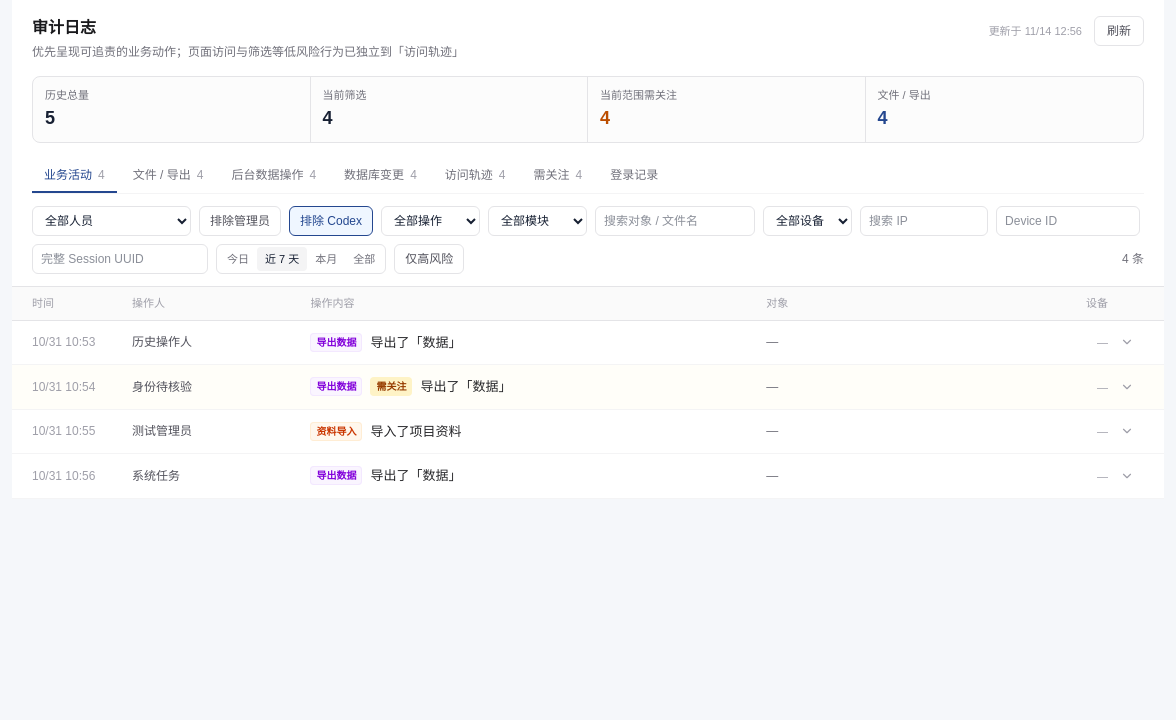
Test: Codex is excluded by default while admin exclusion is opt-in, and clearing restores both defaults
This screenshot has width=1176, height=720.
Expected: the text "4 条" is shown, [1122,251,1144,267]
Expected: the button "清除筛选" is not shown
Click the button "排除 Codex" at (331, 220), box [289,206,373,236]
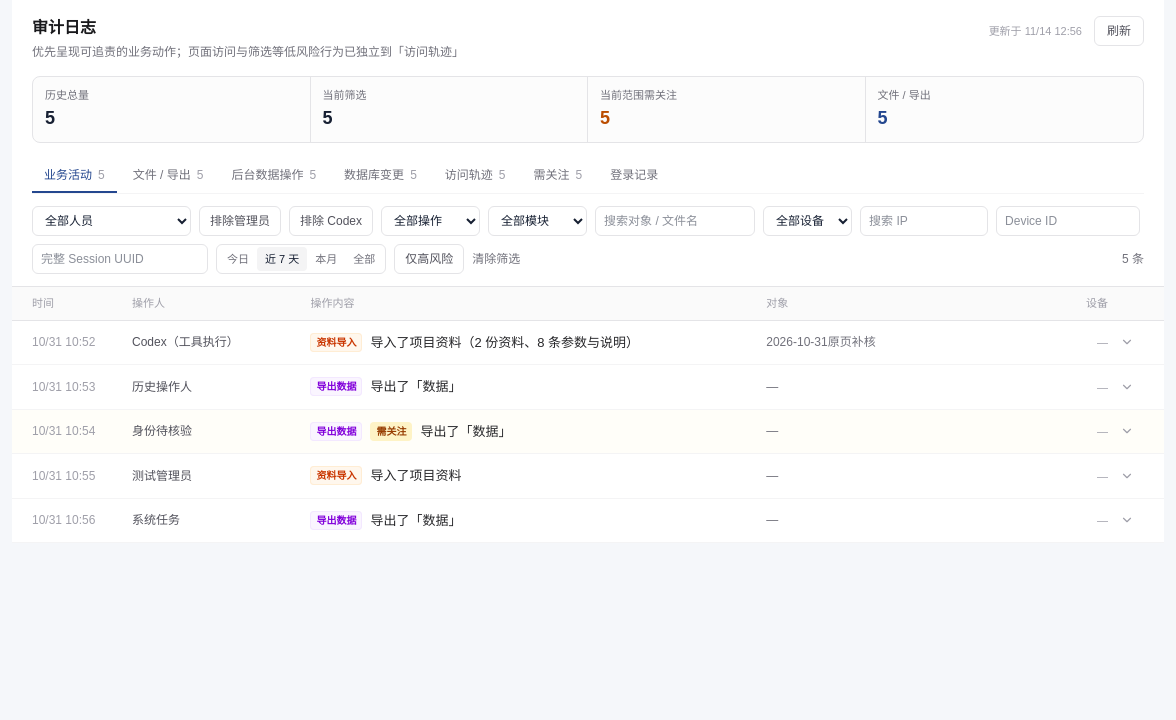
Expected: the text "5 条" is shown, [1122,251,1144,267]
Expected: the text "Codex（工具执行）" is shown, [132,335,239,349]
Click the button "排除 Codex" at (331, 220), box [289,206,373,236]
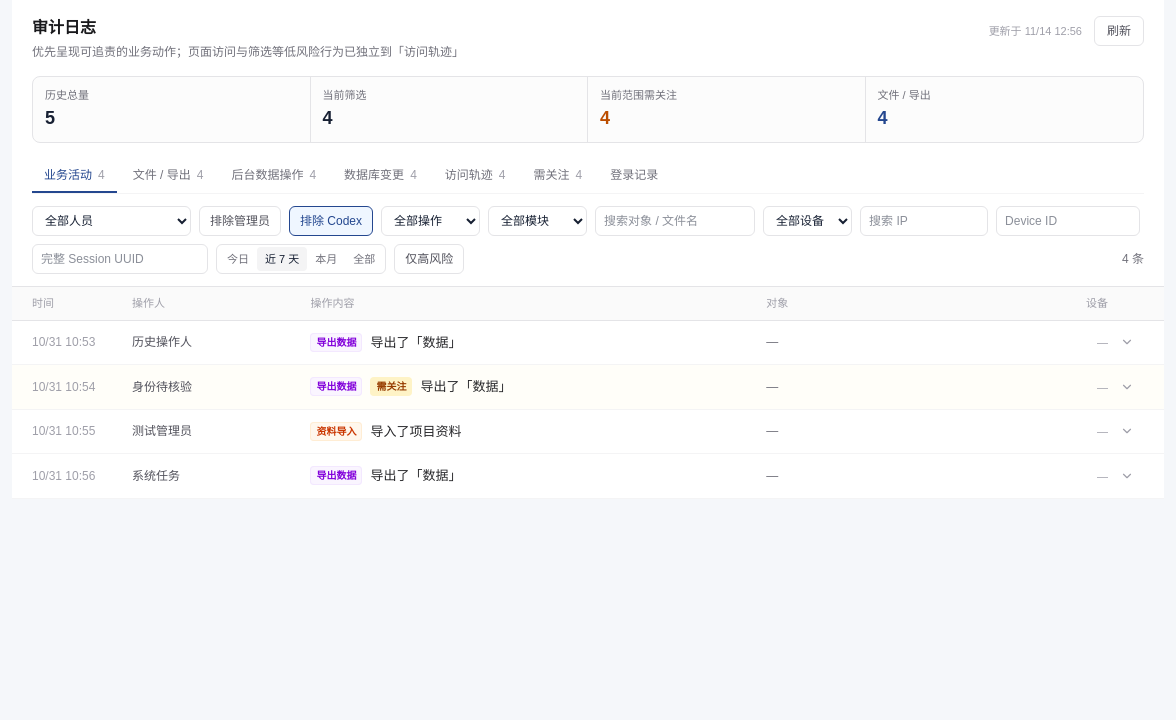
Expected: the text "4 条" is shown, [1122,251,1144,267]
Click the button "排除管理员" at (240, 220), box [199,206,281,236]
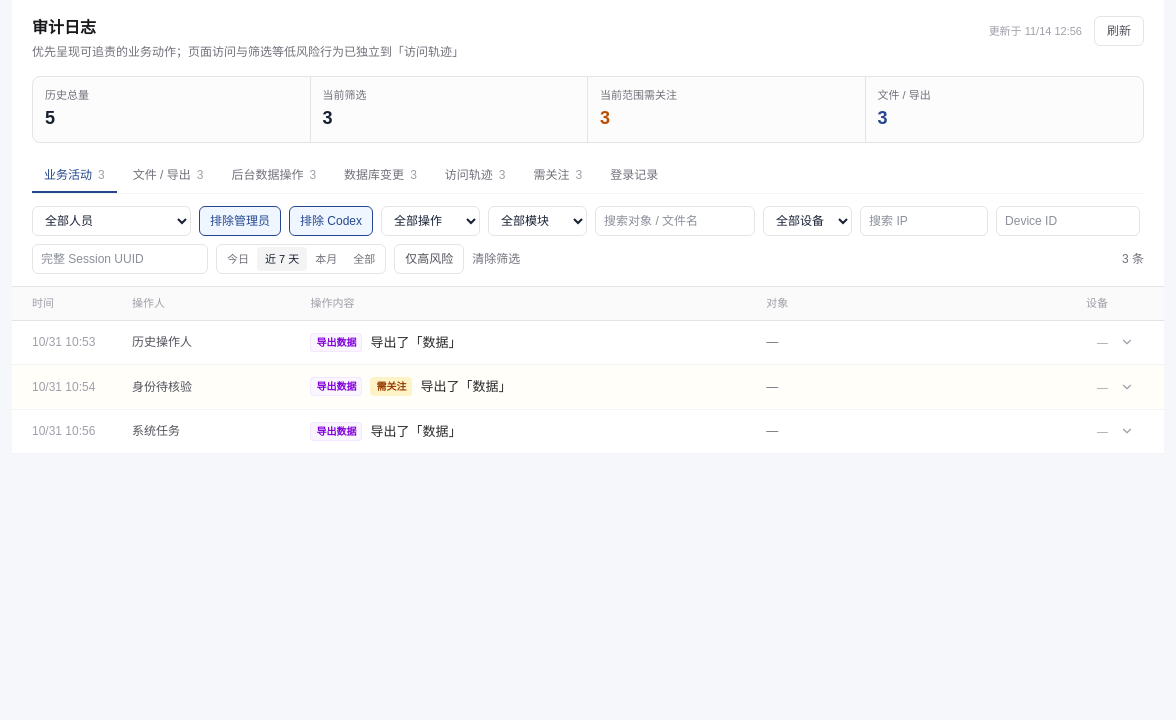
Expected: the button "Codex（工具执行）" is not shown
Expected: the text "3 条" is shown, [1122,251,1144,267]
Expected: the button "测试管理员" is gone
Select "测试管理员（管理员）" in the 1st dropdown showing "全部人员" at (112, 220), box [32,206,191,236]
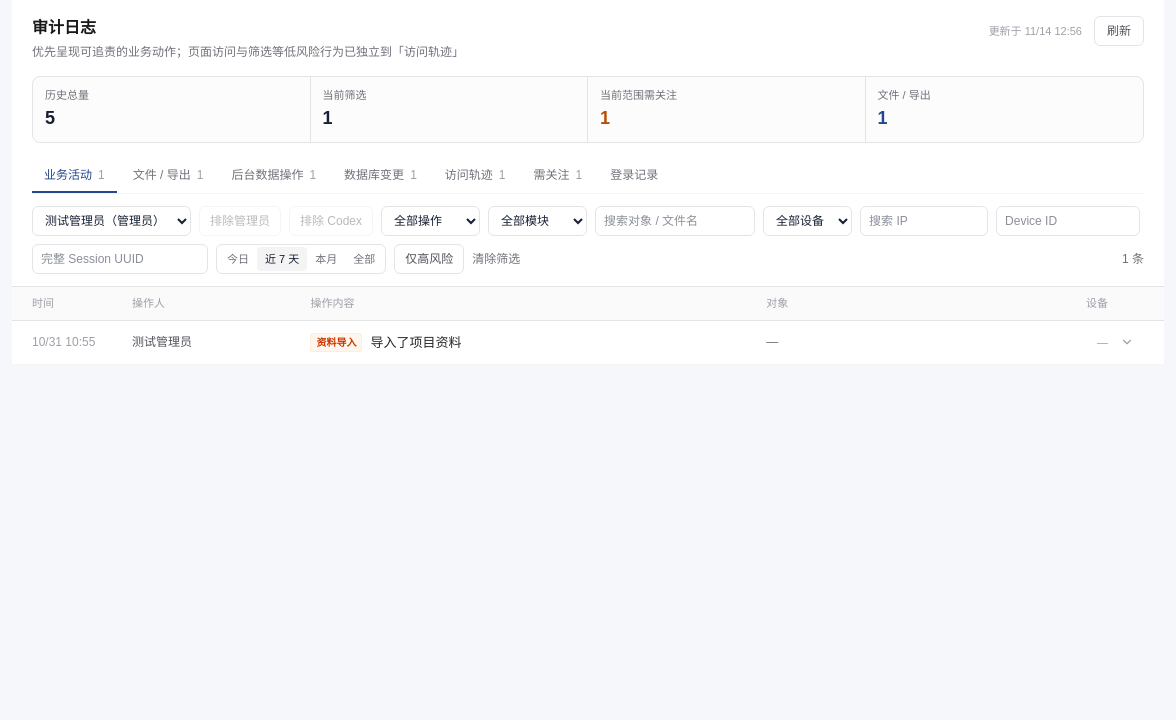
Expected: the text "1 条" is shown, [1122,251,1144,267]
Expected: the button "排除 Codex" is disabled, [289,206,373,236]
Expected: the button "排除管理员" is disabled, [199,206,281,236]
Click the button "清除筛选" at (496, 259), box [472,251,520,267]
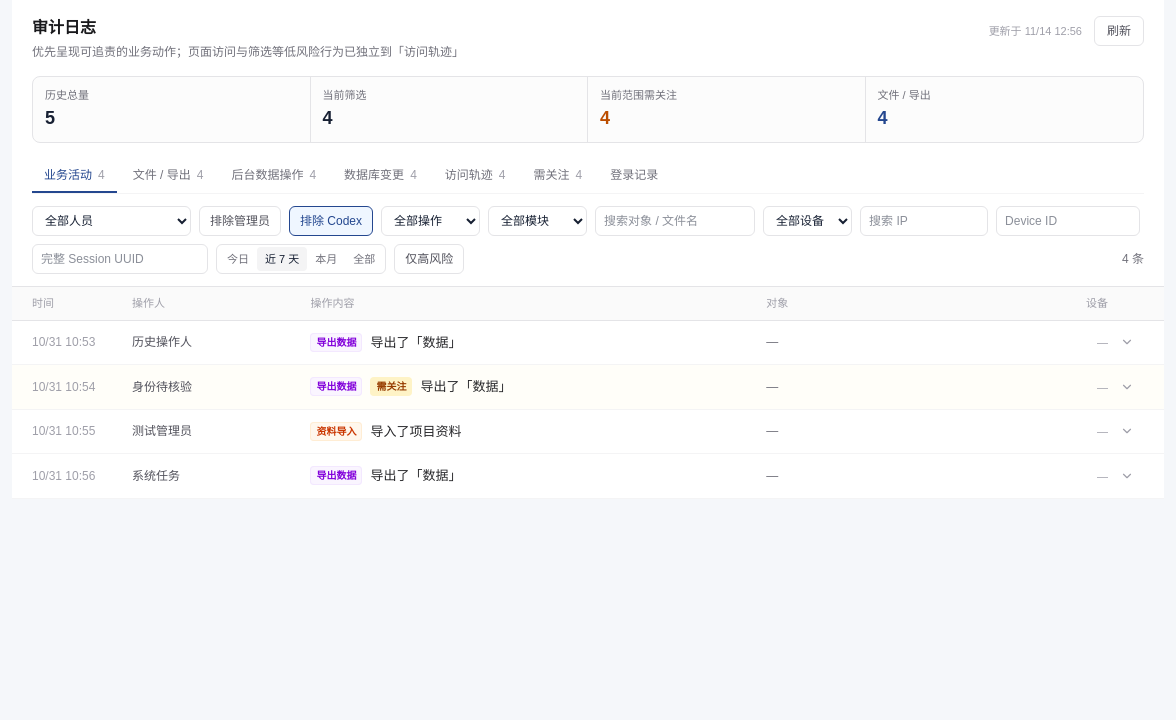
Expected: the text "测试管理员" is shown, [132,424,192,438]
Expected: the text "4 条" is shown, [1122,251,1144,267]
Expected: the button "排除 Codex" is enabled, [289,206,373,236]
